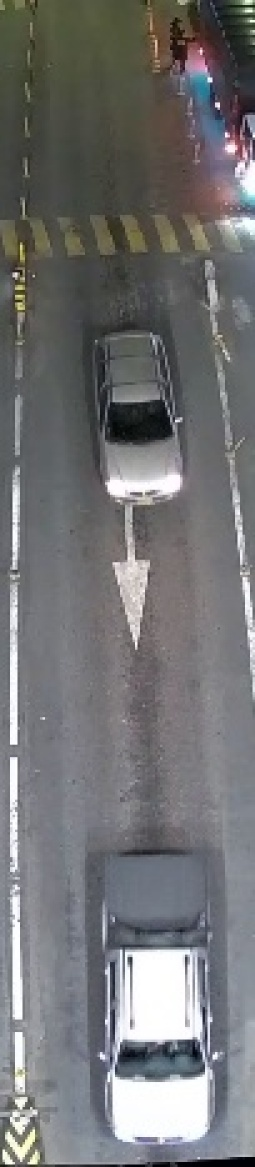car: (90, 832, 227, 1150), (79, 321, 199, 518)
